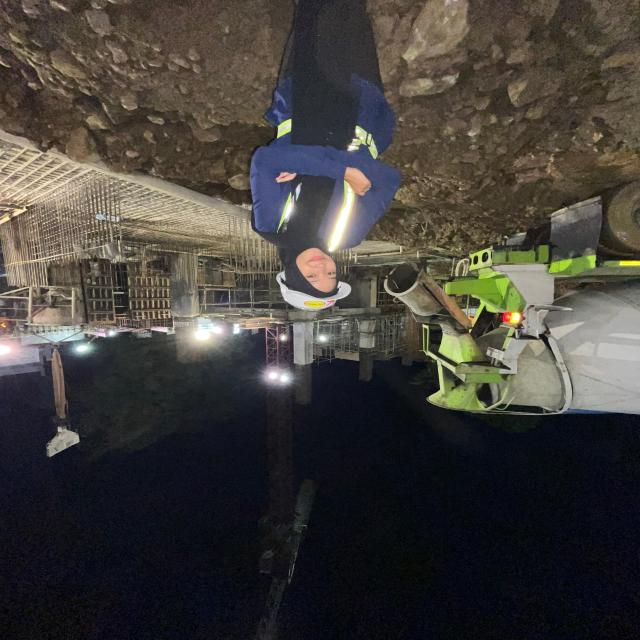safetyhelmet: (262, 253, 356, 325)
